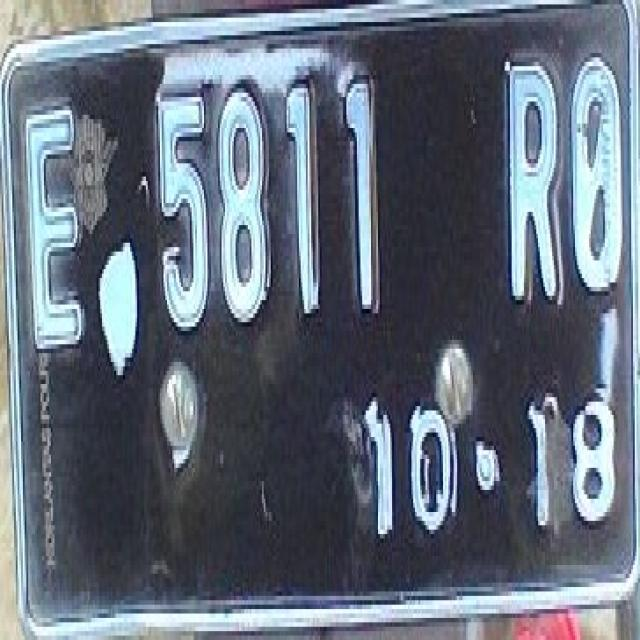plate: (0, 18, 638, 592)
